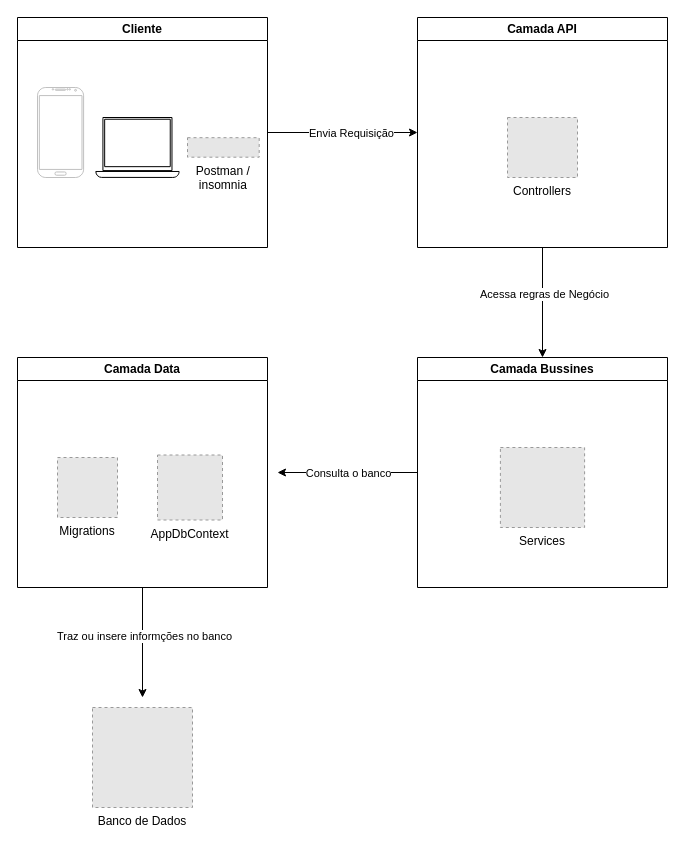
Some shapes in this 685 by 846 pixel diagram are drawn without their labels. Grey dashed boxes stand in for pictures. The centre of each missing label's shape, as x and y in pixels:
"Mobile" goes at [60,132].
"Web" goes at [137,147].
